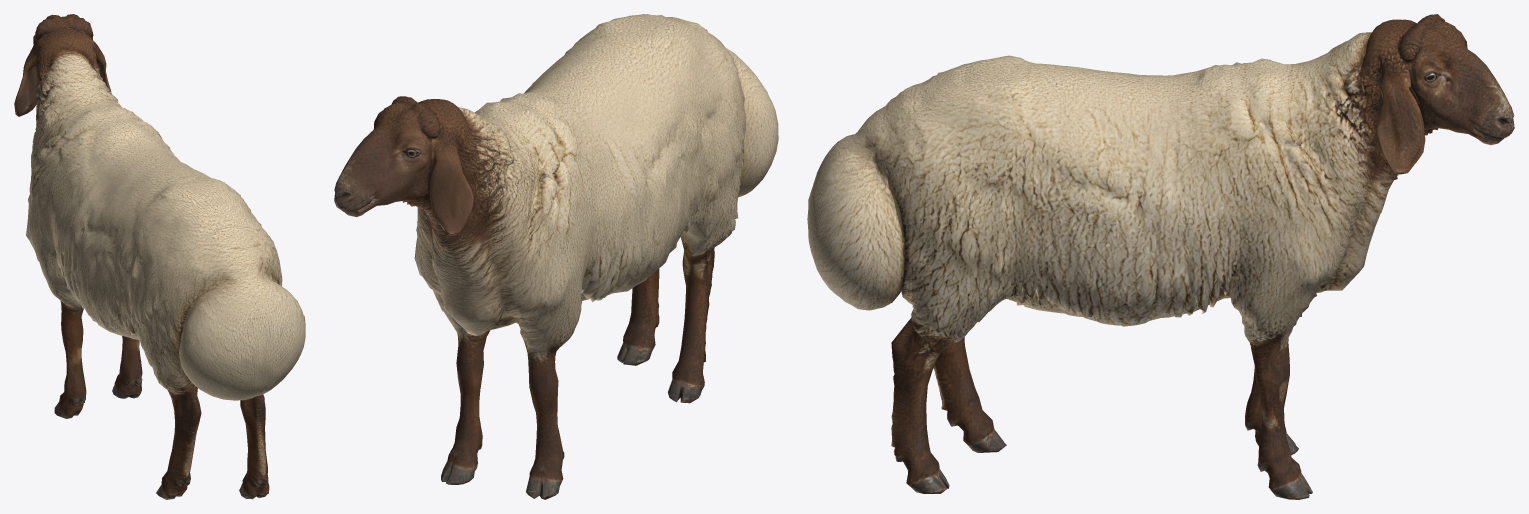
Rendered from sheep.glb.
3 views of the same model, side by side, from view 1: azimuth 30°, elevation 25°; view 2: azimuth 150°, elevation 25°; view 3: azimuth 270°, elevation 25° (orthographic). The views are drawn at different scales.
Parts seen in each view (by area): view 1: tripo_node_ea7c6b1a-3bf4-4d4f-b6f4-fb16f9bf8aa2; view 2: tripo_node_ea7c6b1a-3bf4-4d4f-b6f4-fb16f9bf8aa2; view 3: tripo_node_ea7c6b1a-3bf4-4d4f-b6f4-fb16f9bf8aa2.
Boxes of the visible parts, x1,y1,x2,y2 form: tripo_node_ea7c6b1a-3bf4-4d4f-b6f4-fb16f9bf8aa2: (14, 14, 305, 499); tripo_node_ea7c6b1a-3bf4-4d4f-b6f4-fb16f9bf8aa2: (334, 14, 778, 499); tripo_node_ea7c6b1a-3bf4-4d4f-b6f4-fb16f9bf8aa2: (807, 14, 1514, 499).
Bounding box in the file's own units: 0.3088 × 0.7075 × 0.9765.
Materials: 1 (1 with a texture image).
